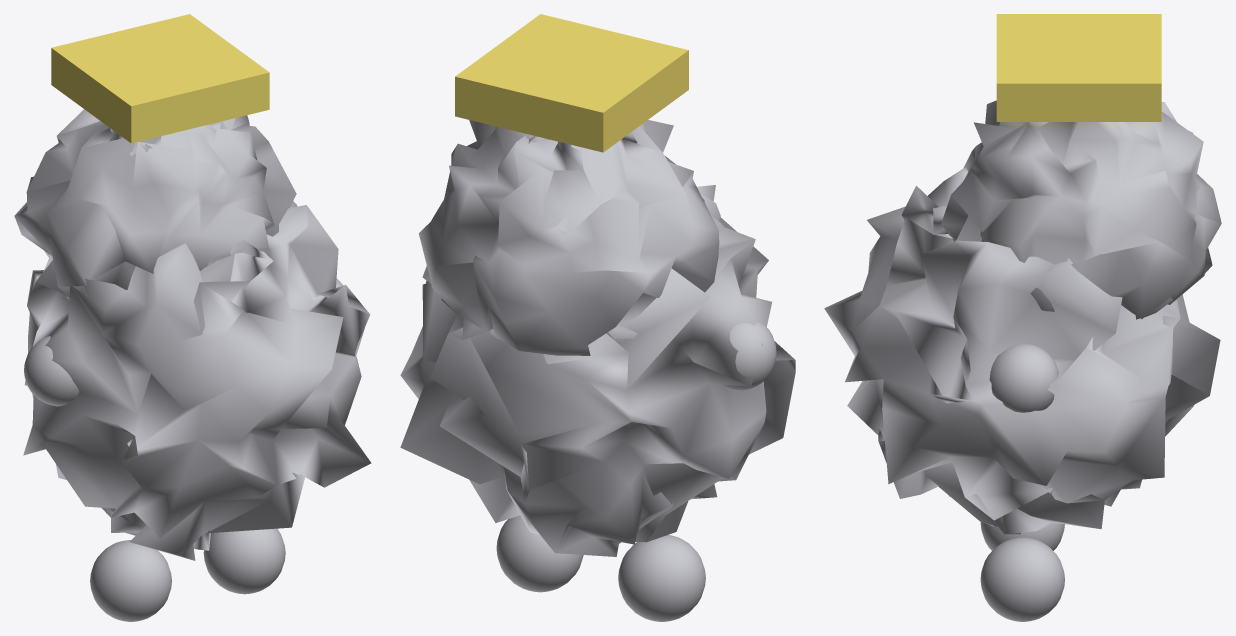
Rendered from clay_bus_hat_hippo.glb.
The picture shows the model from 3 angles, left to right: view 1: azimuth 30°, elevation 25°; view 2: azimuth 150°, elevation 25°; view 3: azimuth 270°, elevation 25°; orthographic projection. The views are drawn at different scales.
Visible parts, largest first — view 1: hat; view 2: hat; view 3: hat.
Boxes of the visible parts, <box> form: hat: <box>14,14,371,621</box>; hat: <box>400,14,795,621</box>; hat: <box>824,14,1221,621</box>.
Size of the model in its own units: 1.38 by 2.11 by 1.41.
